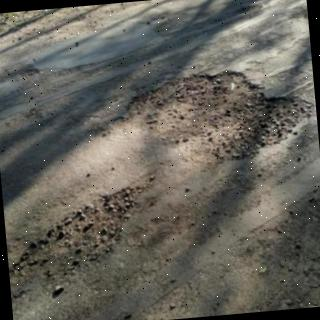pothole: (9, 184, 150, 319), (112, 71, 313, 162)
